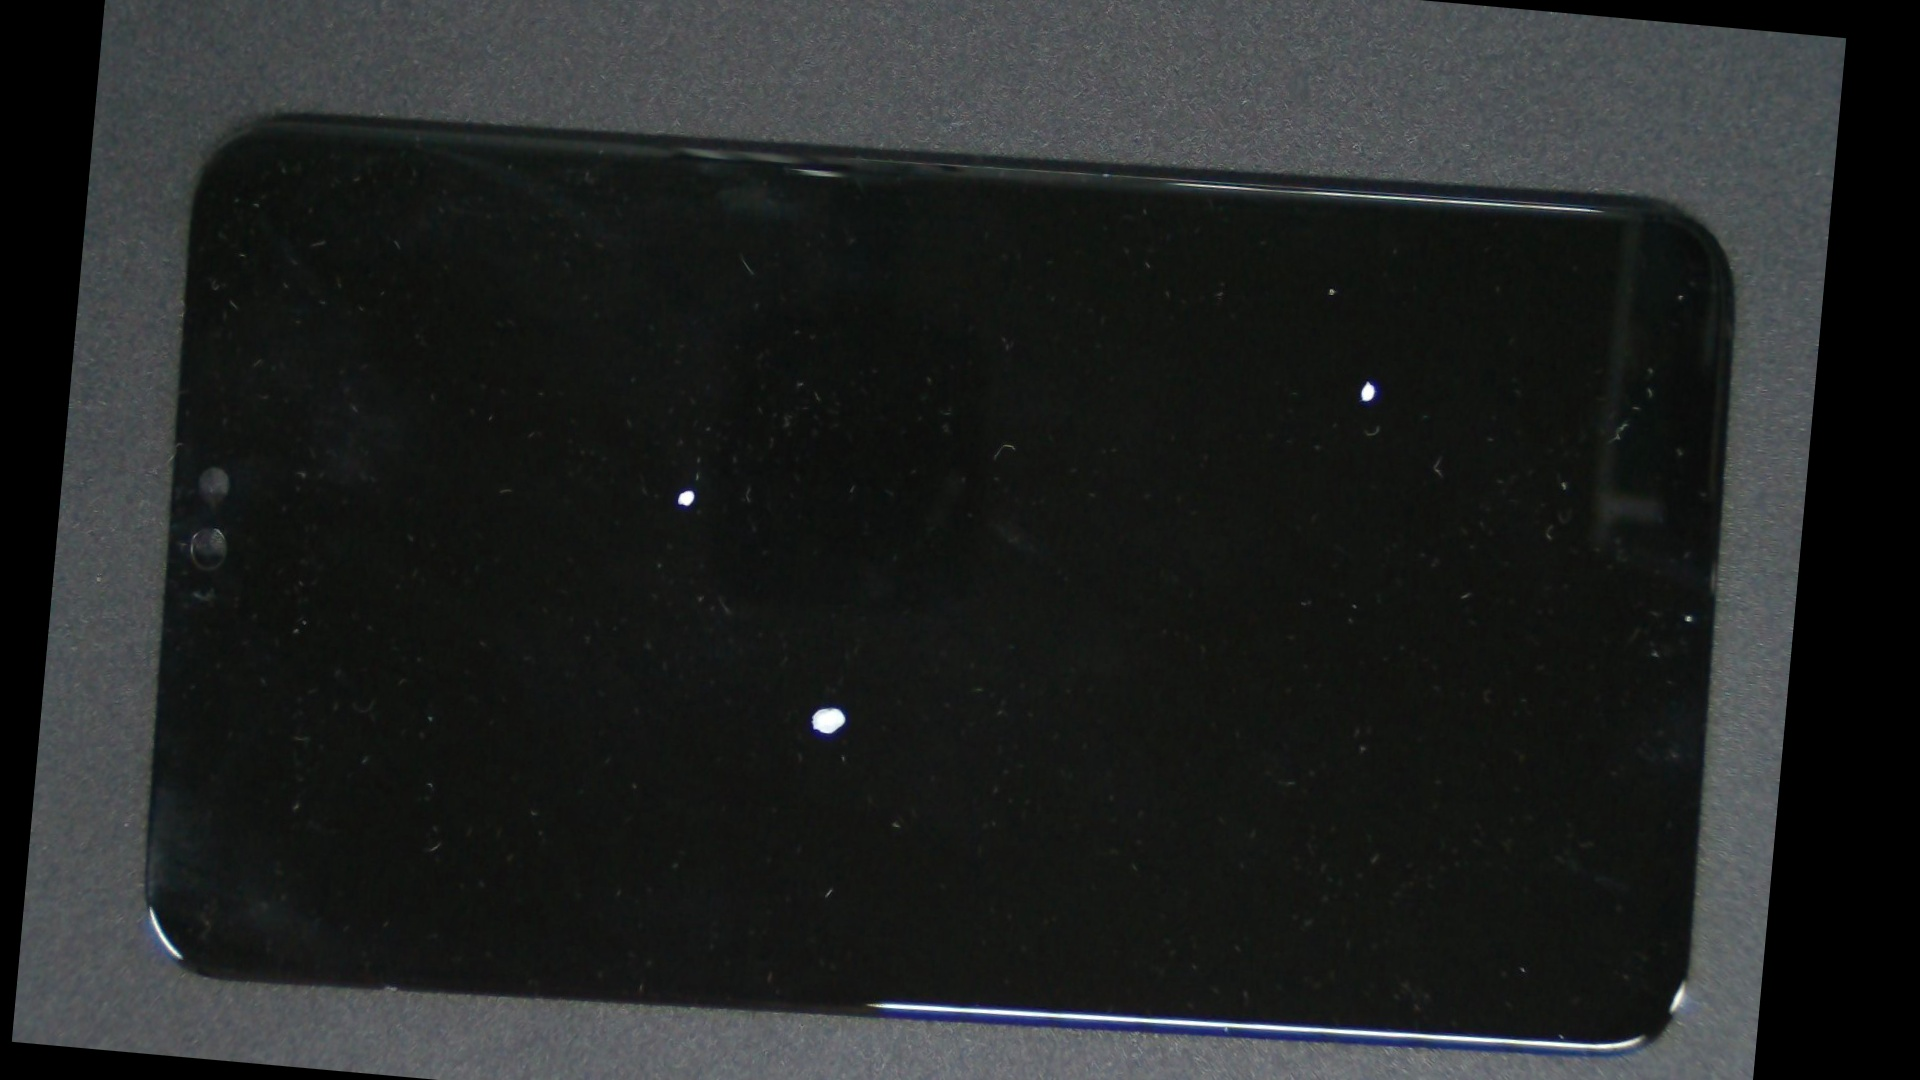oil: (405, 294, 1253, 1080), (708, 131, 1829, 611), (355, 186, 1030, 791)
